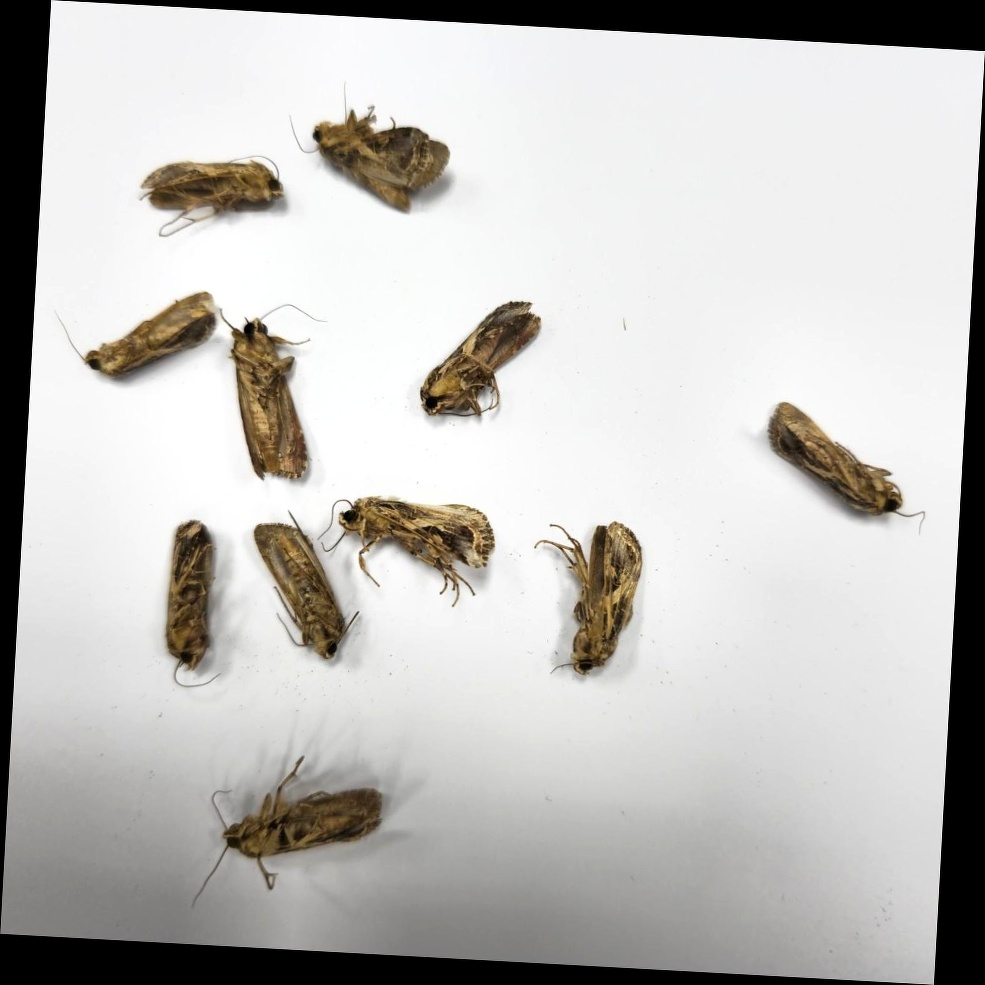Spodoptera litura: (194, 754, 381, 910), (287, 81, 451, 213), (765, 404, 928, 530), (215, 302, 323, 481), (317, 498, 496, 604), (531, 518, 642, 676), (251, 509, 361, 659), (54, 287, 216, 380), (421, 298, 538, 421), (139, 153, 285, 241), (167, 519, 227, 689)
